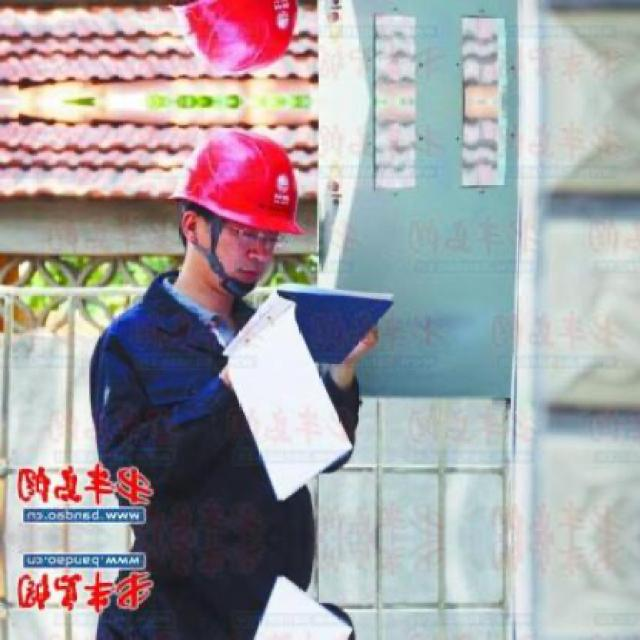con casco: (159, 104, 316, 340)
